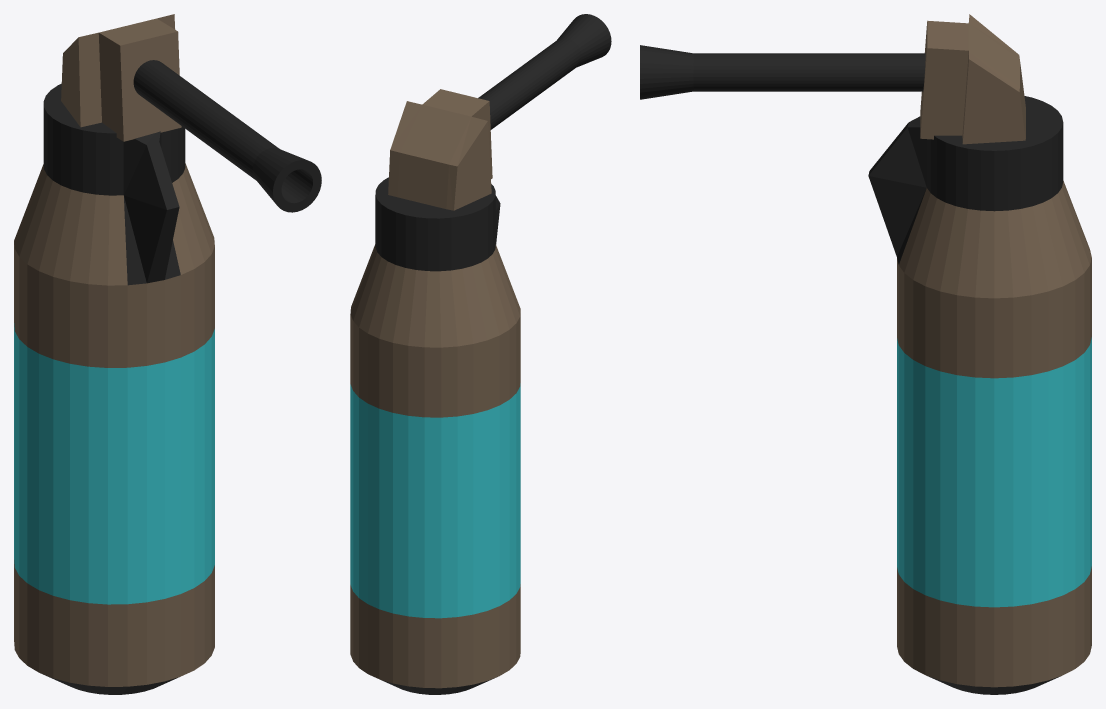
The model's file is spawarka.fbx.
3 views of the same model, side by side, from view 1: azimuth 30°, elevation 25°; view 2: azimuth 150°, elevation 25°; view 3: azimuth 270°, elevation 25° (orthographic). The views are drawn at different scales.
Visible parts, largest first — view 1: Cylinder; view 2: Cylinder; view 3: Cylinder.
Boxes of the visible parts, x1,y1,x2,y2 form: Cylinder: (14, 14, 321, 694); Cylinder: (350, 14, 611, 694); Cylinder: (640, 14, 1091, 694).
Bounding box in the file's own units: 200 × 720 × 463.
